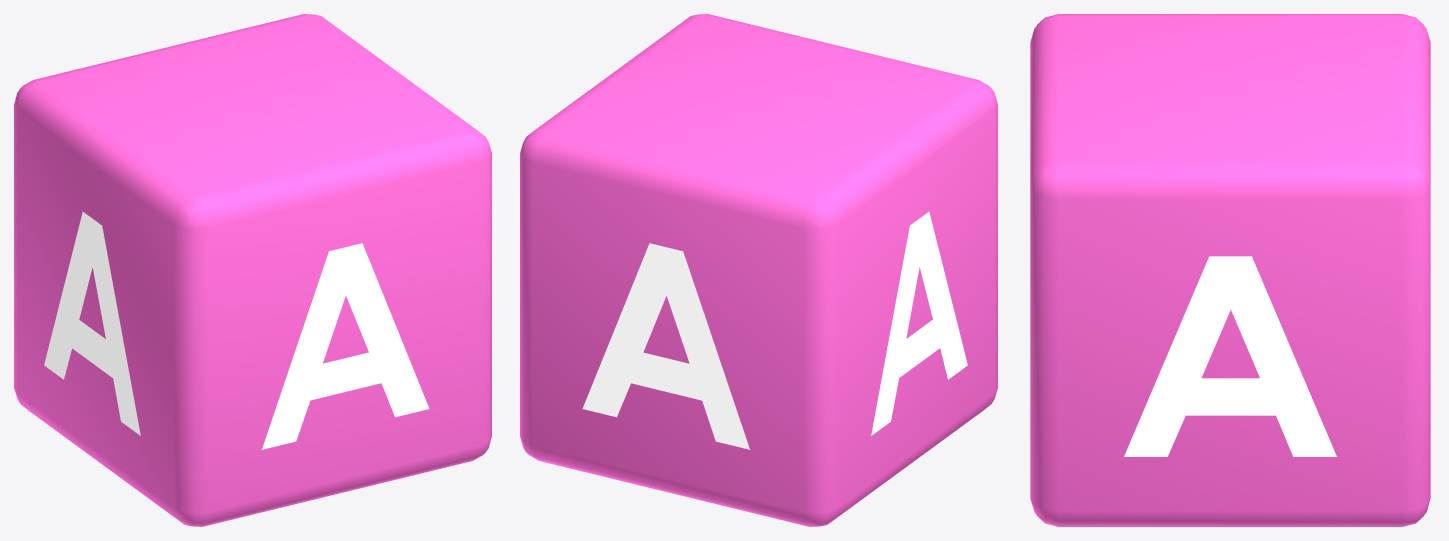
File: admin_toolkit.glb
The picture shows the model from 3 angles, left to right: view 1: azimuth 30°, elevation 25°; view 2: azimuth 150°, elevation 25°; view 3: azimuth 270°, elevation 25°; orthographic projection. The views are drawn at different scales.
Parts seen in each view (by area): view 1: Cube, Text; view 2: Cube, Text; view 3: Cube, Text.
Part boxes in pixels (x1,y1,x2,y2): Cube: [14, 14, 491, 526]; Text: [44, 211, 429, 449]; Cube: [520, 14, 997, 526]; Text: [582, 211, 967, 449]; Cube: [1030, 14, 1430, 526]; Text: [1124, 256, 1336, 456].
Bounding box in the file's own units: 1.02 × 1 × 1.02.
1 material, 1 textured.
